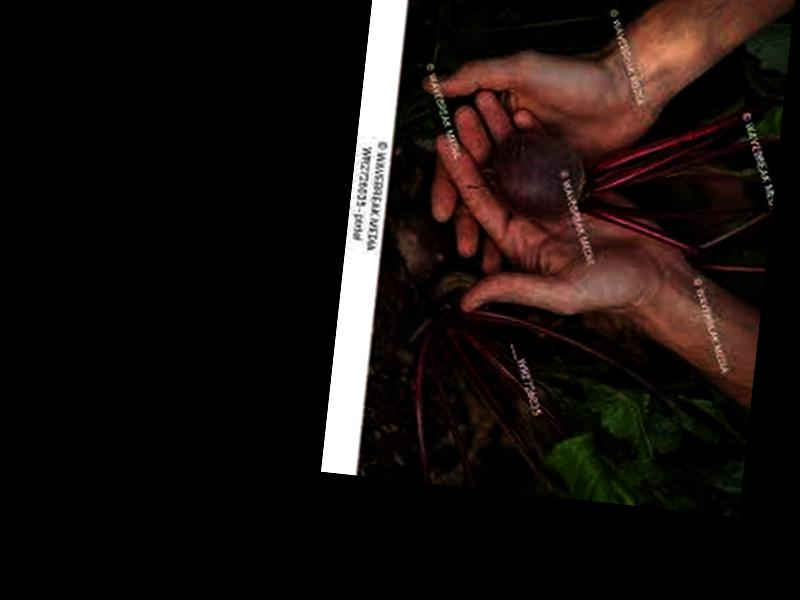Beet: (474, 66, 774, 264)
